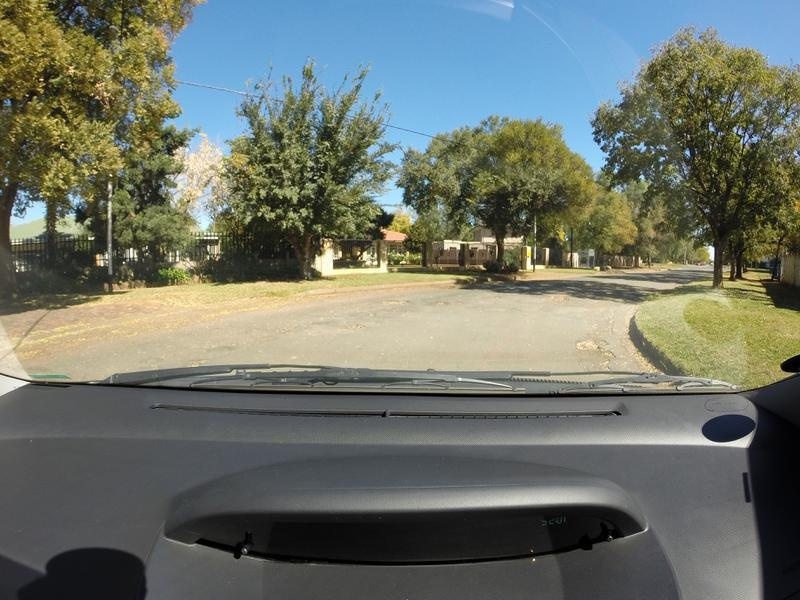pothole: (571, 335, 615, 367), (337, 322, 369, 333), (185, 353, 206, 367), (426, 296, 448, 307), (382, 296, 409, 304)
